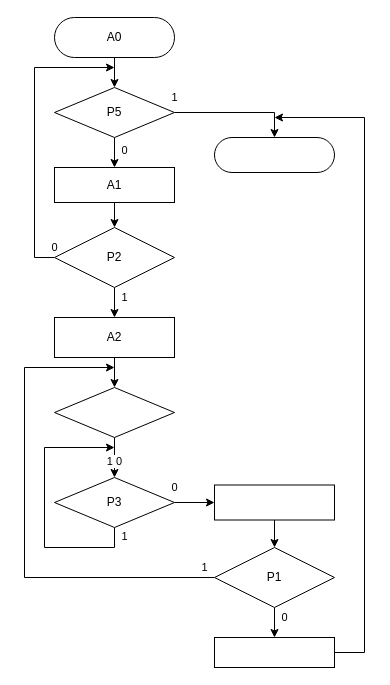
The diagram is 390 pixels wide and 685 high, and some of its shapes have lost their labels. Each missing label, with the box of its shape:
A3: (214, 484, 334, 520)
A4: (214, 636, 334, 668)
Ak: (214, 136, 334, 172)
P4: (54, 386, 174, 438)
